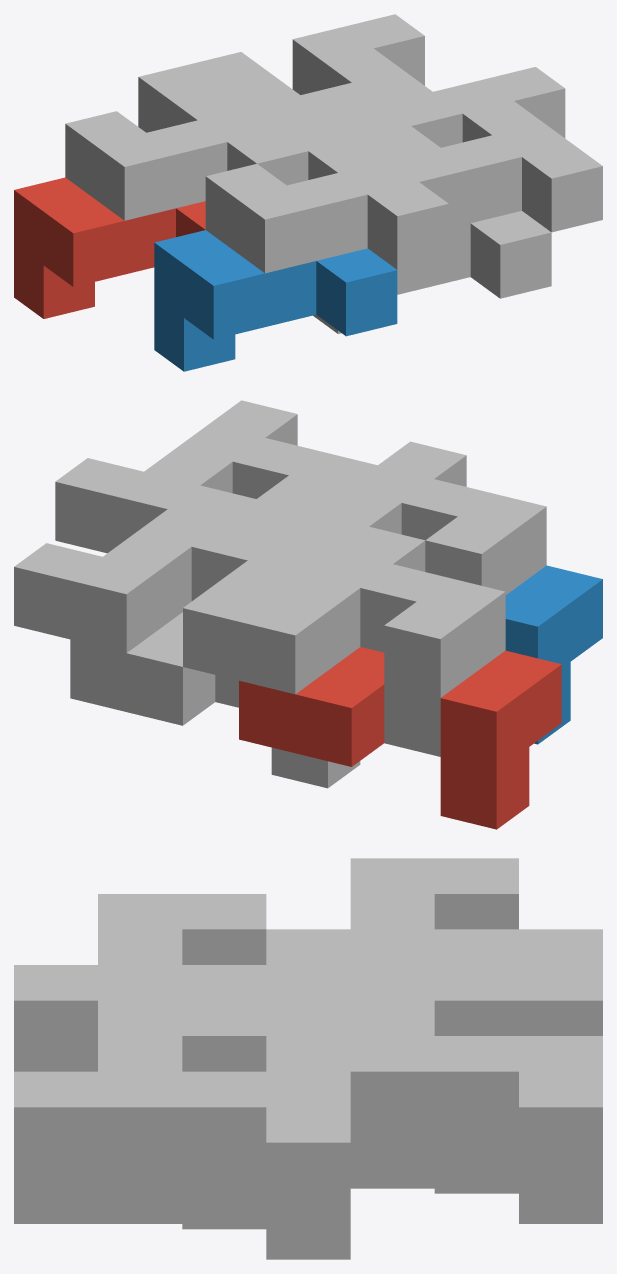
File: tiling.obj
3 views of the same model, one above another, from view 1: azimuth 30°, elevation 25°; view 2: azimuth 150°, elevation 25°; view 3: azimuth 270°, elevation 25° (orthographic). The views are drawn at different scales.
Visible parts, largest first — view 1: copy_1_domain_4, copy_1_domain_3, copy_1_domain_8, copy_1_domain_2, copy_1_domain_7, copy_1_domain_1, copy_1_domain_6; view 2: copy_1_domain_3, copy_1_domain_1, copy_1_domain_7, copy_1_domain_4, copy_1_domain_8, copy_1_domain_5, copy_1_domain_2; view 3: copy_1_domain_8, copy_1_domain_7, copy_1_domain_4, copy_1_domain_3, copy_1_domain_6, copy_1_domain_5.
Part boxes in pixels (<box>): copy_1_domain_4: <box>205,104,448,273</box>; copy_1_domain_3: <box>65,52,308,220</box>; copy_1_domain_8: <box>360,67,602,232</box>; copy_1_domain_2: <box>154,230,397,371</box>; copy_1_domain_7: <box>220,14,462,147</box>; copy_1_domain_1: <box>14,177,205,318</box>; copy_1_domain_6: <box>313,211,551,333</box>; copy_1_domain_3: <box>183,526,505,756</box>; copy_1_domain_1: <box>239,647,561,829</box>; copy_1_domain_7: <box>14,485,336,707</box>; copy_1_domain_4: <box>224,441,546,594</box>; copy_1_domain_8: <box>55,400,377,553</box>; copy_1_domain_5: <box>70,612,360,788</box>; copy_1_domain_2: <box>505,565,602,744</box>; copy_1_domain_8: <box>14,1000,350,1218</box>; copy_1_domain_7: <box>266,965,602,1183</box>; copy_1_domain_4: <box>14,894,350,1071</box>; copy_1_domain_3: <box>266,858,602,1035</box>; copy_1_domain_6: <box>14,1183,350,1259</box>; copy_1_domain_5: <box>350,1148,602,1223</box>.
Bounding box in the file's own units: 9 × 3 × 7.
